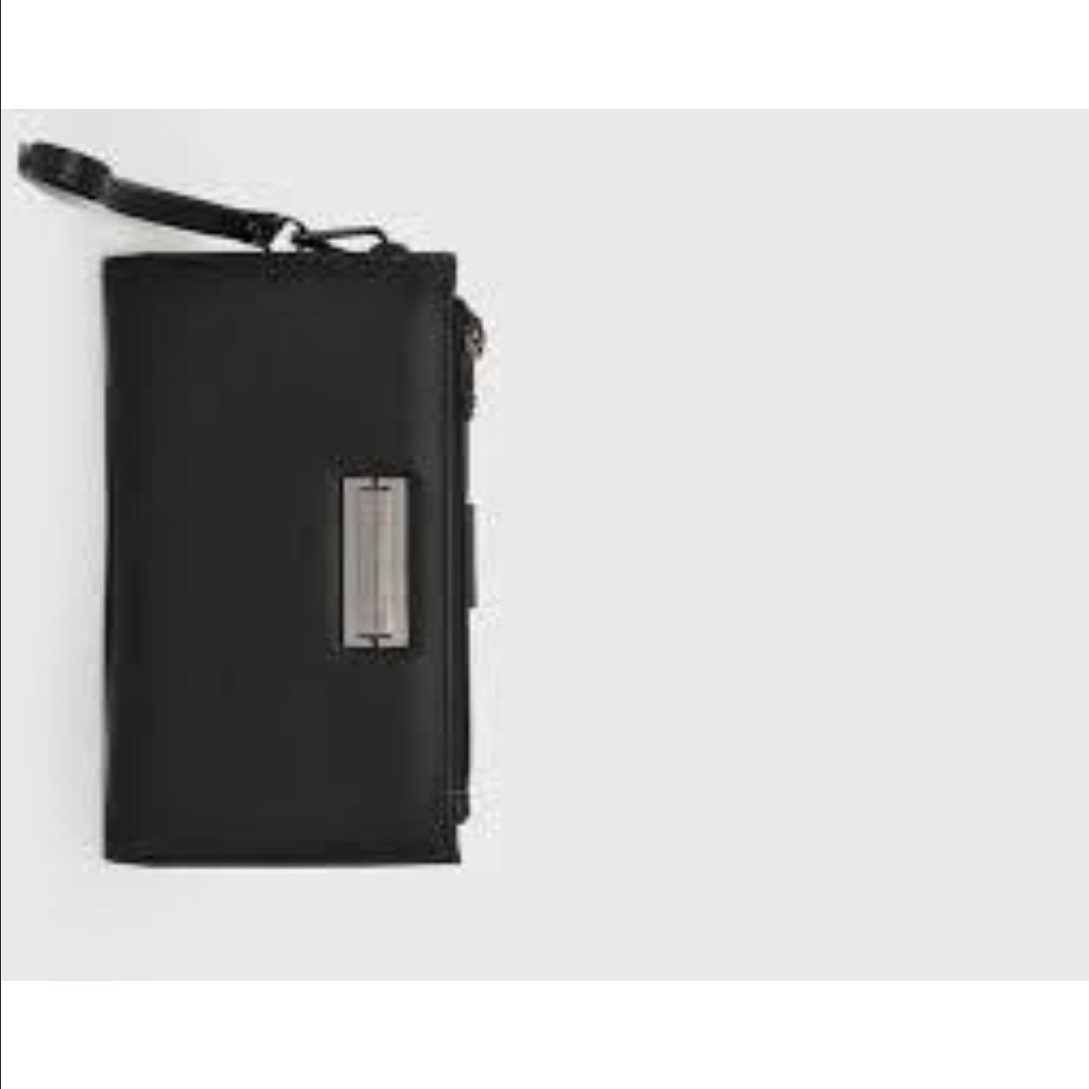wallet: (100, 241, 490, 882)
